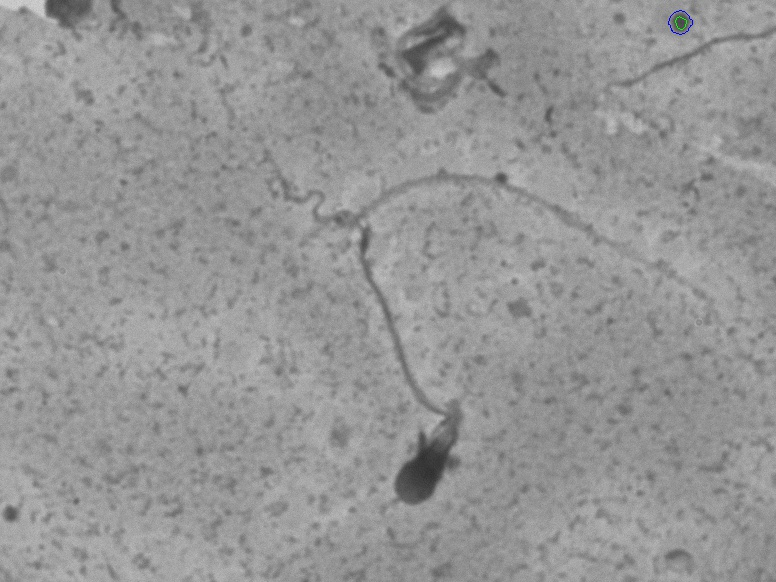Abnormal: (301, 203, 526, 568)
